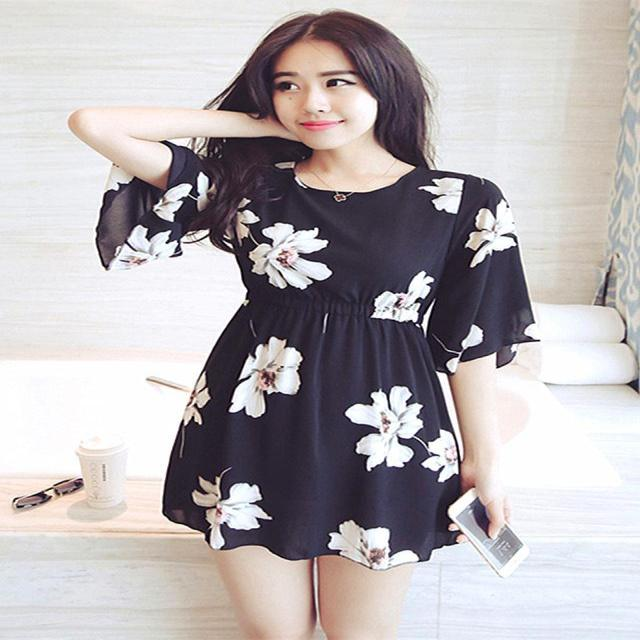long sleeve dress: (107, 141, 529, 554)
